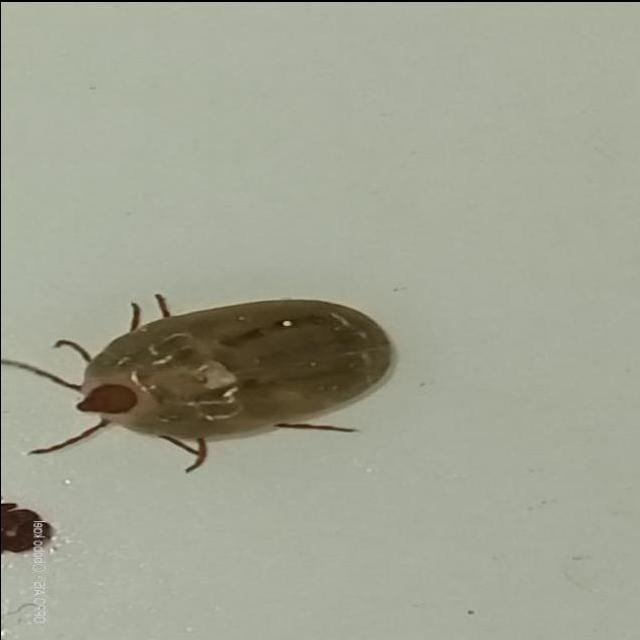Rhipicephalus Sanguineus-F-Fed: (0, 294, 396, 471)
